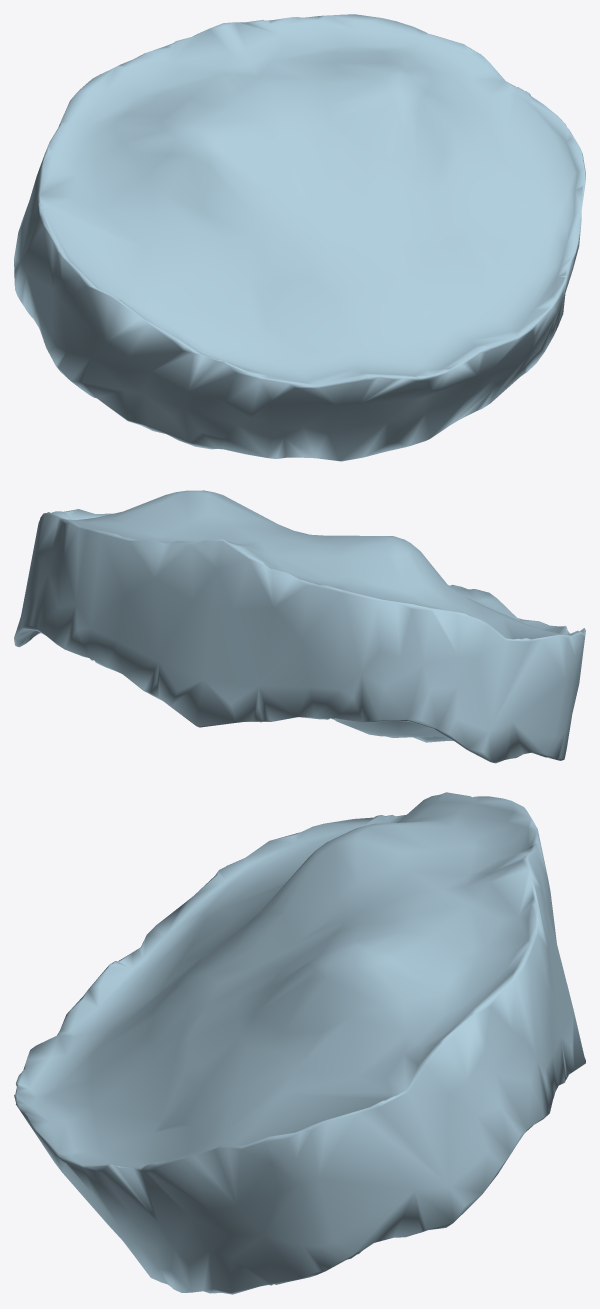
Rendered from articulacoes-intervertebral-disc-l5-s1.glb.
The picture shows the model from 3 angles, top to bottom: view 1: azimuth 30°, elevation 25°; view 2: azimuth 150°, elevation 25°; view 3: azimuth 270°, elevation 25°; orthographic projection. The views are drawn at different scales.
Parts seen in each view (by area): view 1: Intervertebral disc L5-S1; view 2: Intervertebral disc L5-S1; view 3: Intervertebral disc L5-S1.
Part boxes in pixels (x1=…): Intervertebral disc L5-S1: x1=14, y1=14, x2=585, y2=461; Intervertebral disc L5-S1: x1=14, y1=490, x2=585, y2=763; Intervertebral disc L5-S1: x1=14, y1=792, x2=585, y2=1294.
Size of the model in its own units: 0.0507 by 0.0293 by 0.0405.
